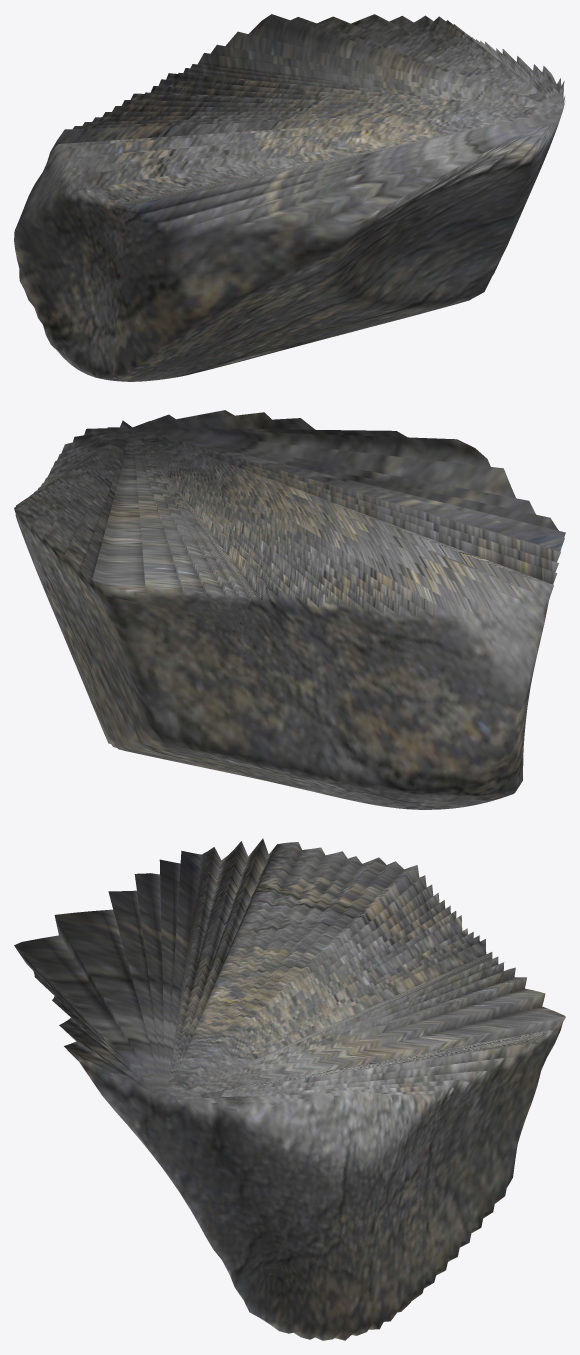
The model's file is stenasverhu1kamen.fbx.
3 views of the same model, one above another, from view 1: azimuth 30°, elevation 25°; view 2: azimuth 150°, elevation 25°; view 3: azimuth 270°, elevation 25° (orthographic). The views are drawn at different scales.
Parts seen in each view (by area): view 1: Cube.011; view 2: Cube.011; view 3: Cube.011.
Boxes of the visible parts, box(x1,y1,x2,y2) form: Cube.011: box(14, 14, 565, 381); Cube.011: box(14, 410, 565, 809); Cube.011: box(14, 838, 565, 1340).
Size of the model in its own units: 66.14 by 31.75 by 53.06.
